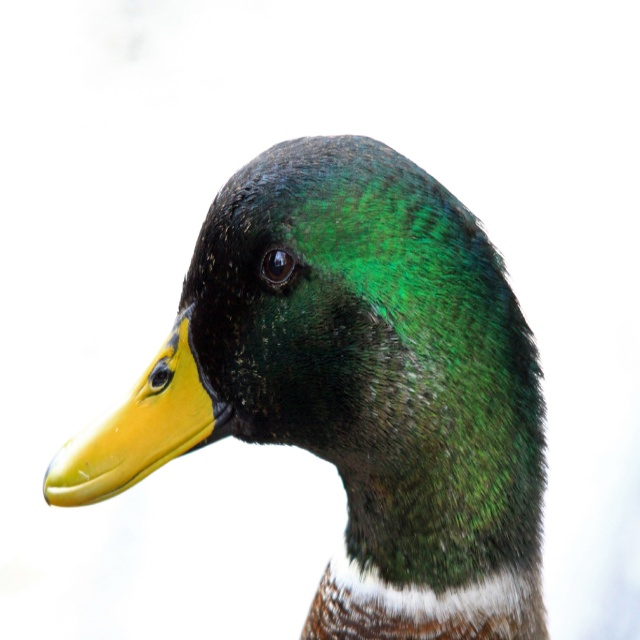Goose: (44, 132, 549, 639)
